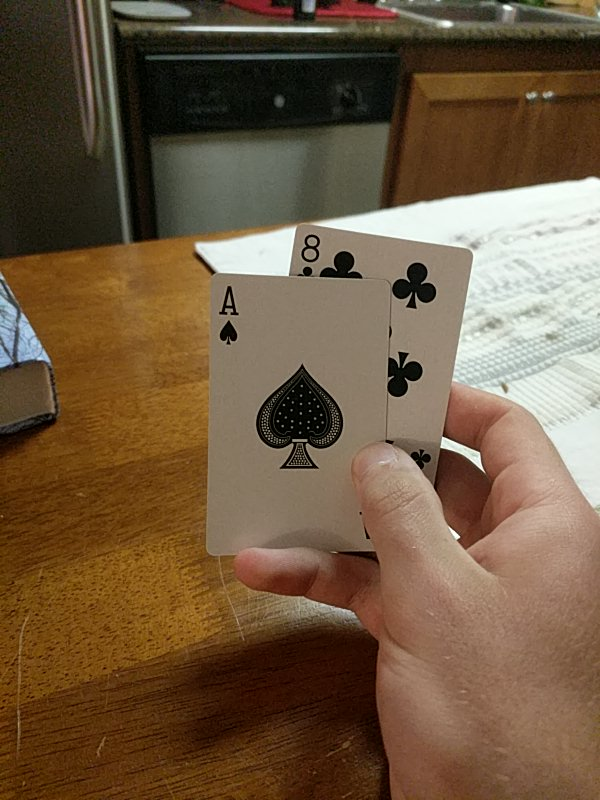Clubs: (285, 223, 473, 504)
Spades: (206, 277, 391, 552)
